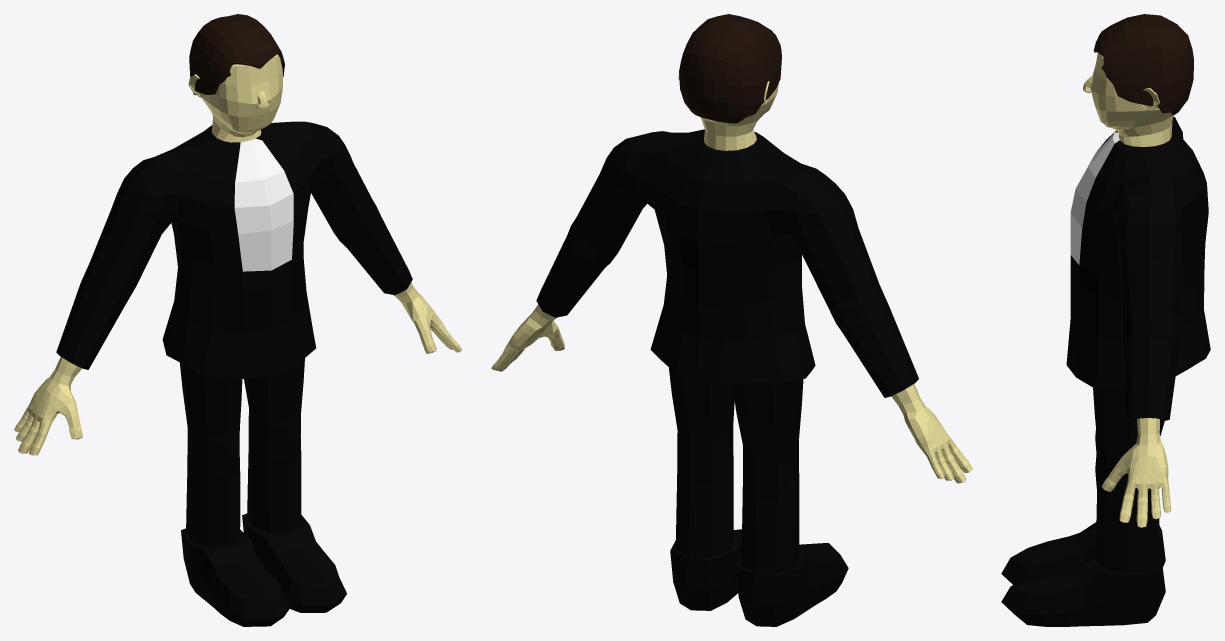
File: PedroHenriqueDias_PersonagemHumanoide.fbx_Personagem.fbx
3 renders of one model, left to right at view 1: azimuth 30°, elevation 25°; view 2: azimuth 150°, elevation 25°; view 3: azimuth 270°, elevation 25°, orthographic. The views are drawn at different scales.
Parts seen in each view (by area): view 1: Funcionario; view 2: Funcionario; view 3: Funcionario.
Boxes of the visible parts, left/top/right/bottom form: Funcionario: left=14, top=14, right=462, bottom=626; Funcionario: left=491, top=14, right=972, bottom=626; Funcionario: left=1001, top=14, right=1210, bottom=626.
Bounding box in the file's own units: 140 × 170 × 55.57.
